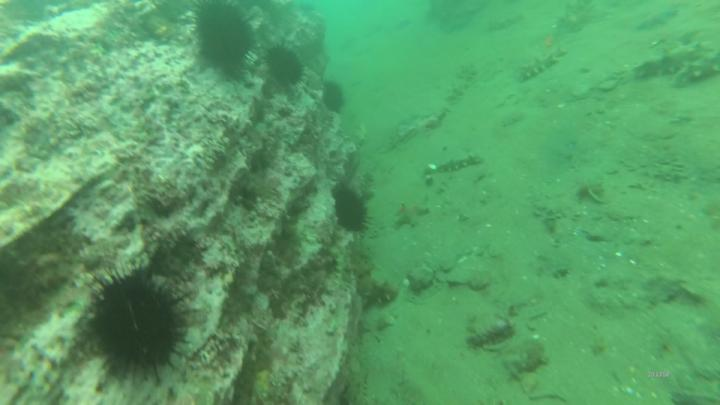echinus: (89, 270, 183, 383), (190, 2, 261, 79), (334, 180, 374, 239), (261, 40, 309, 88), (320, 74, 349, 117)
holothurian: (623, 38, 712, 83), (348, 254, 401, 307), (515, 47, 569, 86), (674, 51, 720, 89), (426, 149, 486, 177), (442, 64, 480, 106)
starfish: (637, 7, 680, 34)
